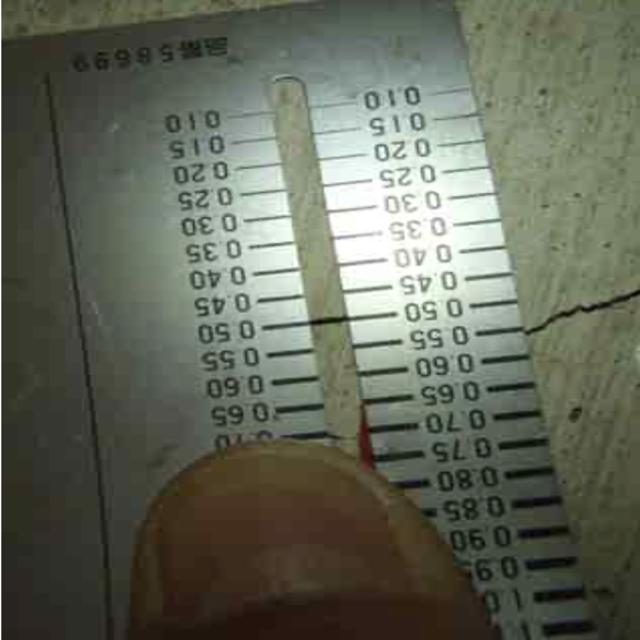crack: (523, 243, 638, 380)
